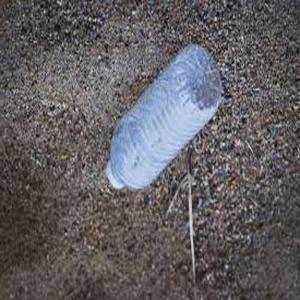Plastic: (104, 44, 223, 198)
